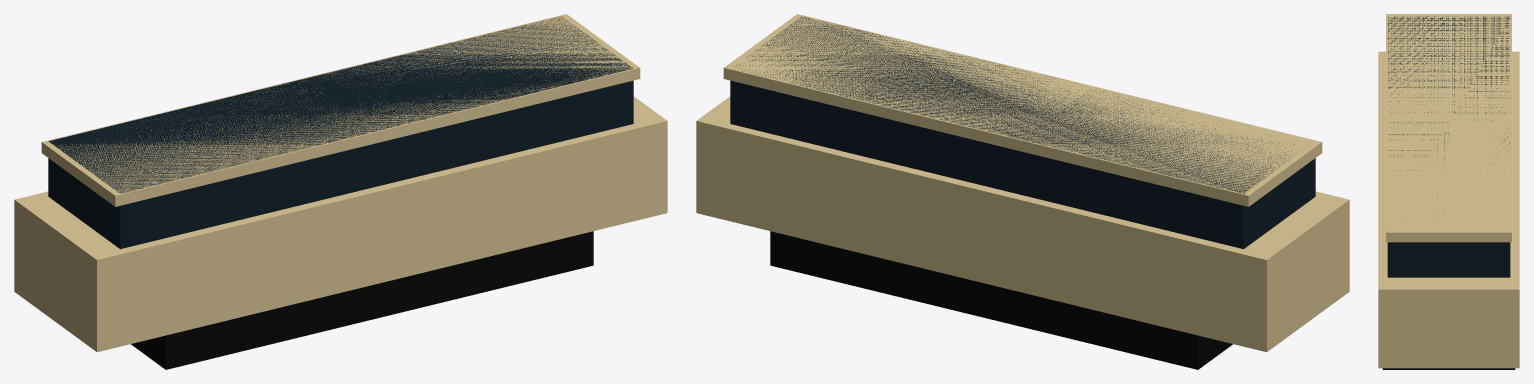
The model's file is city_bus.lod2.obj.
3 renders of one model, left to right at view 1: azimuth 30°, elevation 25°; view 2: azimuth 150°, elevation 25°; view 3: azimuth 270°, elevation 25°, orthographic. The views are drawn at different scales.
Parts seen in each view (by area): view 1: city_bus; view 2: city_bus; view 3: city_bus.
Part boxes in pixels (x1=…): city_bus: x1=14, y1=14, x2=667, y2=369; city_bus: x1=696, y1=14, x2=1349, y2=369; city_bus: x1=1378, y1=14, x2=1519, y2=369.
Bounding box in the file's own units: 10.62 × 3.28 × 2.67.
